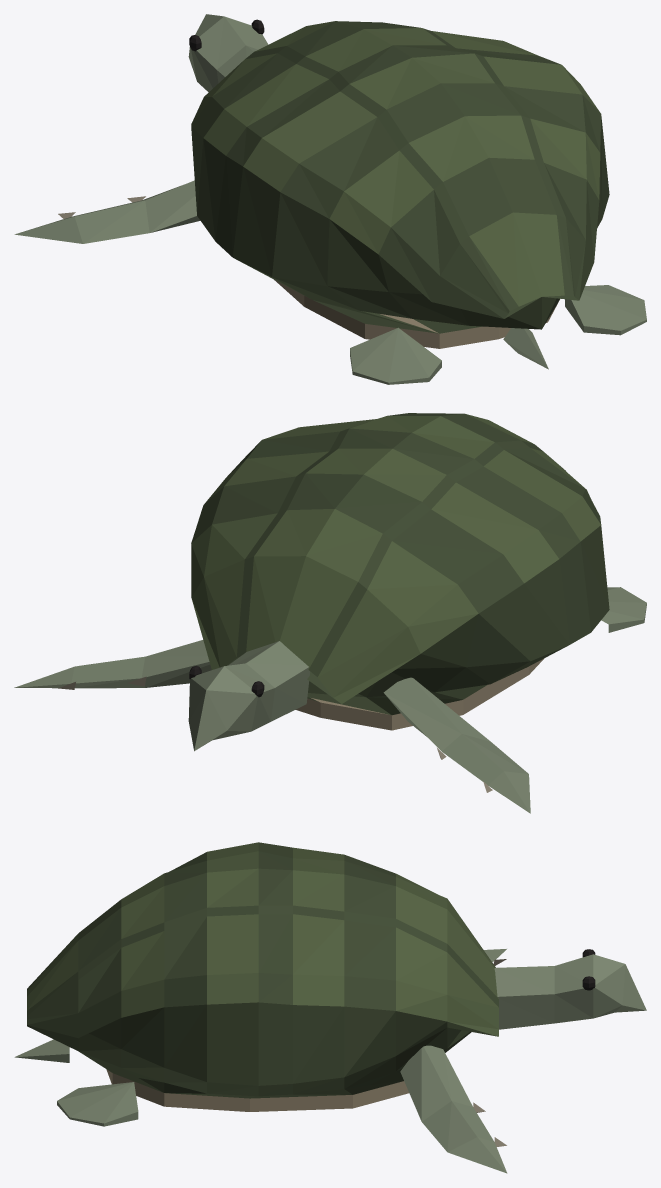
The model's file is turtle_bunker.glb.
3 views of the same model, one above another, from view 1: azimuth 30°, elevation 25°; view 2: azimuth 150°, elevation 25°; view 3: azimuth 270°, elevation 25° (orthographic). The views are drawn at different scales.
Visible parts, largest first — view 1: SeaTurtle_Shell, SeaTurtle_Flesh; view 2: SeaTurtle_Shell, SeaTurtle_Flesh; view 3: SeaTurtle_Shell, SeaTurtle_Flesh.
Boxes of the visible parts, x1,y1,x2,y2 form: SeaTurtle_Shell: (191,21,609,348); SeaTurtle_Flesh: (14,14,646,384); SeaTurtle_Shell: (191,413,609,730); SeaTurtle_Flesh: (14,587,646,813); SeaTurtle_Shell: (27,842,498,1111); SeaTurtle_Flesh: (14,949,646,1173).
Size of the model in its own units: 1.24 by 0.5 by 1.48.
